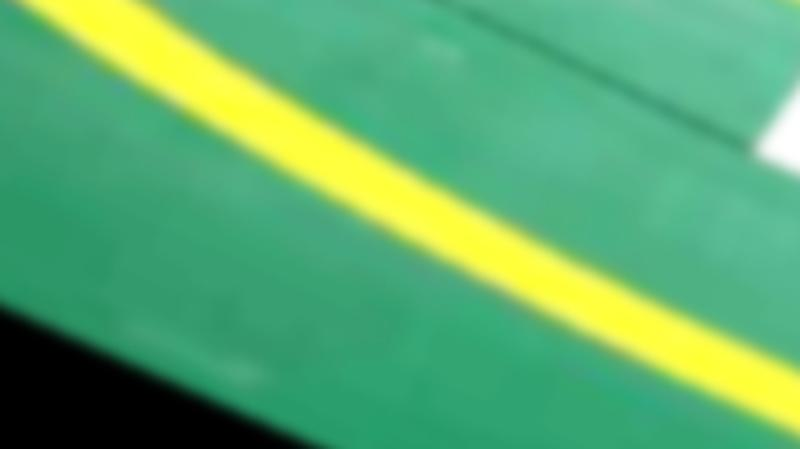Apron: (30, 1, 796, 437)
